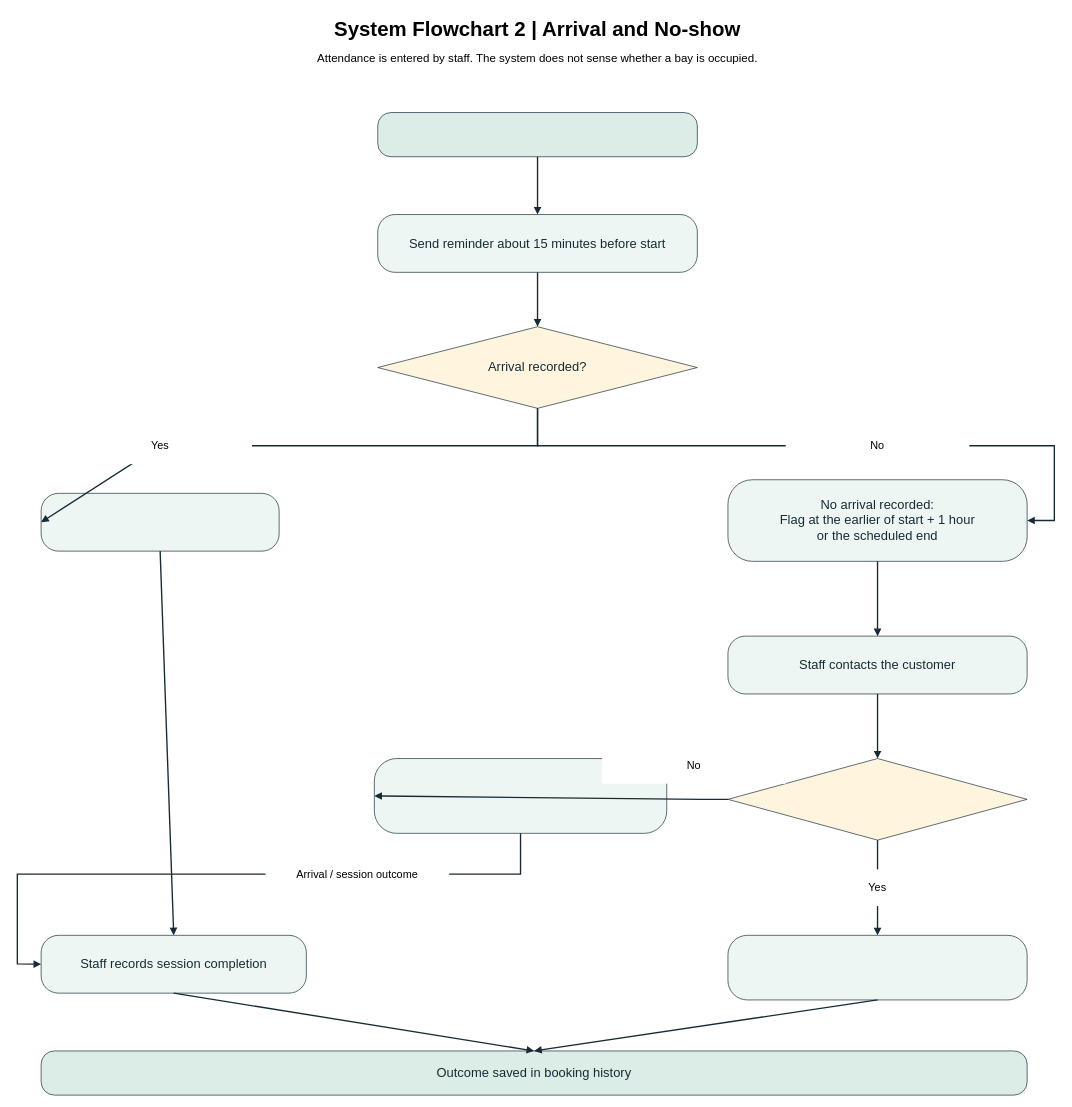
Some shapes in this 1072 by 1107 pixel diagram are drawn without their labels. The shapes that lost their labels are listed below. From the top down, each one's box as (x1, y1, x2, y2) in pixels, then its label:
(377, 112, 697, 157): Confirmed booking
(40, 493, 279, 551): Staff records arrival
(374, 758, 667, 833): Staff records attendance decision No automatic extension or renewed hold
(727, 758, 1027, 840): Staff marks No-show?
(727, 935, 1027, 1000): Record No-show Release remaining allocations
